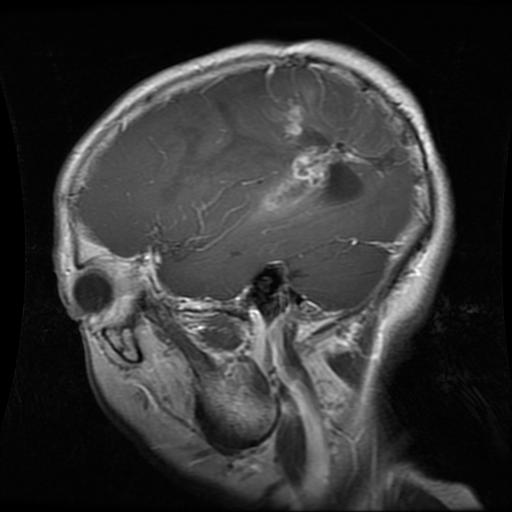Gliomia_tumour: (249, 97, 378, 223)
